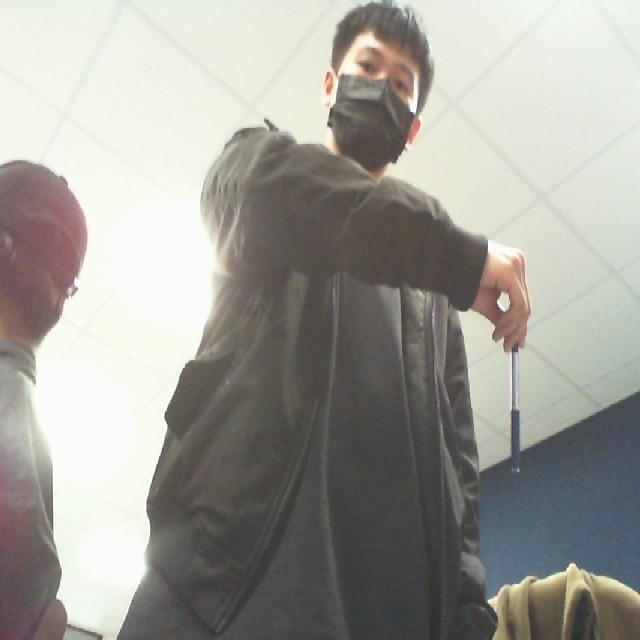Pen: (498, 301, 547, 487)
